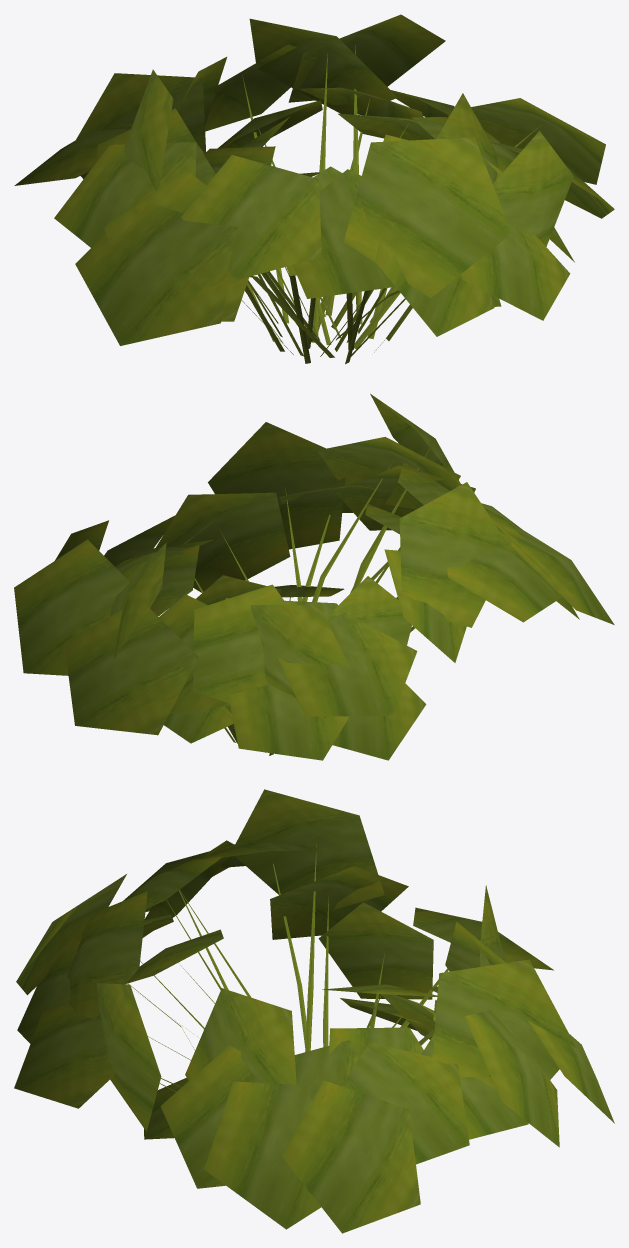
File: plant3.obj
3 renders of one model, top to bottom at view 1: azimuth 30°, elevation 25°; view 2: azimuth 150°, elevation 25°; view 3: azimuth 270°, elevation 25°, orthographic. The views are drawn at different scales.
Parts seen in each view (by area): view 1: tree; view 2: tree; view 3: tree.
Boxes of the visible parts, left/top/right/bottom form: tree: left=14, top=14, right=614, bottom=364; tree: left=14, top=393, right=614, bottom=760; tree: left=14, top=789, right=614, bottom=1233.
Size of the model in its own units: 137 by 70.55 by 127.
Materials: 1 (1 with a texture image).
